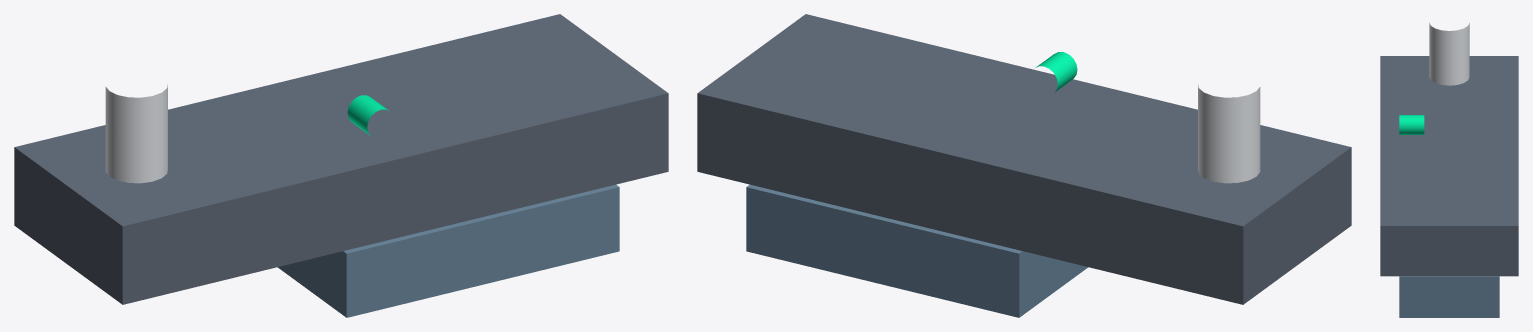
The model's file is intel8085_microprocessor_simulator.glb.
The picture shows the model from 3 angles, left to right: view 1: azimuth 30°, elevation 25°; view 2: azimuth 150°, elevation 25°; view 3: azimuth 270°, elevation 25°; orthographic projection. The views are drawn at different scales.
Visible parts, largest first — view 1: DIP40Intel8085CPUPackage, DemuxAddressLatch74LS373, CrystalClockResonator6MHz, StatusFlagIndicatorLEDs; view 2: DIP40Intel8085CPUPackage, DemuxAddressLatch74LS373, CrystalClockResonator6MHz, StatusFlagIndicatorLEDs; view 3: DIP40Intel8085CPUPackage, DemuxAddressLatch74LS373, CrystalClockResonator6MHz, StatusFlagIndicatorLEDs.
Part boxes in pixels (x1,y1,x2,y2): DIP40Intel8085CPUPackage: (14, 14, 668, 304); DemuxAddressLatch74LS373: (277, 184, 619, 317); CrystalClockResonator6MHz: (105, 84, 167, 183); StatusFlagIndicatorLEDs: (347, 95, 388, 135); DIP40Intel8085CPUPackage: (697, 14, 1351, 304); DemuxAddressLatch74LS373: (746, 184, 1088, 317); CrystalClockResonator6MHz: (1198, 84, 1260, 183); StatusFlagIndicatorLEDs: (1035, 52, 1077, 92); DIP40Intel8085CPUPackage: (1380, 56, 1518, 276); DemuxAddressLatch74LS373: (1399, 276, 1499, 317); CrystalClockResonator6MHz: (1429, 23, 1469, 85); StatusFlagIndicatorLEDs: (1399, 115, 1424, 134).
Size of the model in its own units: 1.6 by 0.69 by 0.55.
